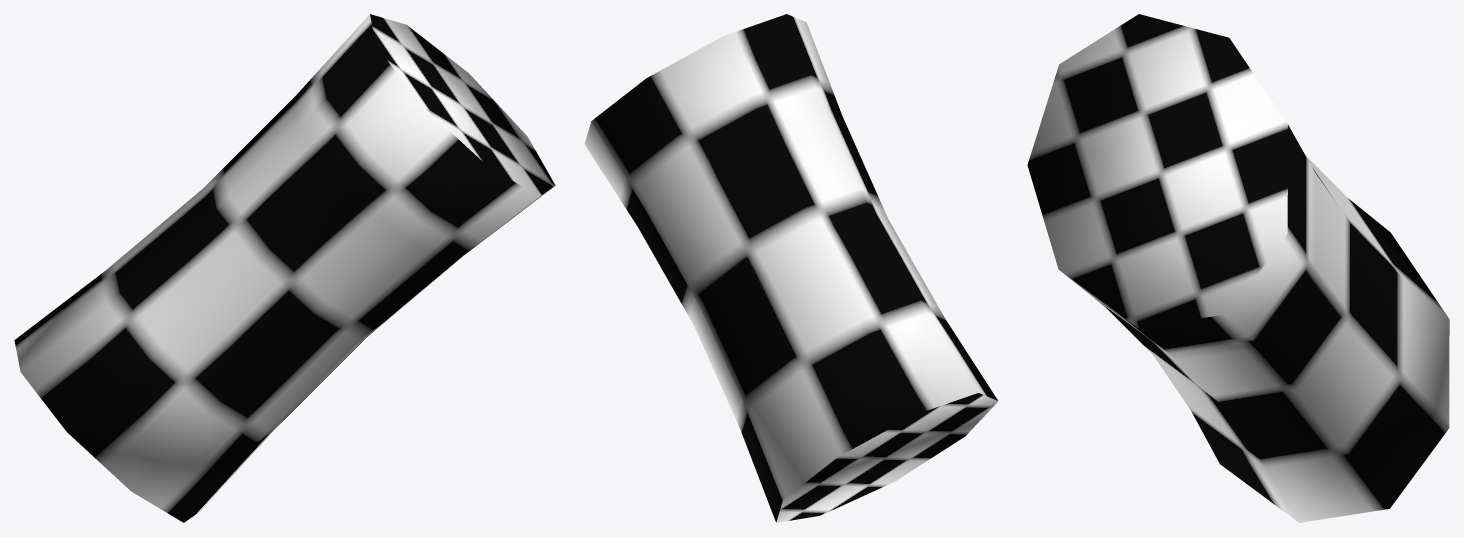
Rendered from initlimt8.dae.
3 views of the same model, side by side, from view 1: azimuth 30°, elevation 25°; view 2: azimuth 150°, elevation 25°; view 3: azimuth 270°, elevation 25° (orthographic). The views are drawn at different scales.
Parts seen in each view (by area): view 1: item; view 2: item; view 3: item.
Boxes of the visible parts, x1,y1,x2,y2 form: item: (14,14,555,522); item: (584,14,998,522); item: (1027,14,1449,522).
Bounding box in the file's own units: 1.68 × 1.11 × 1.66.
1 material, 1 textured.
